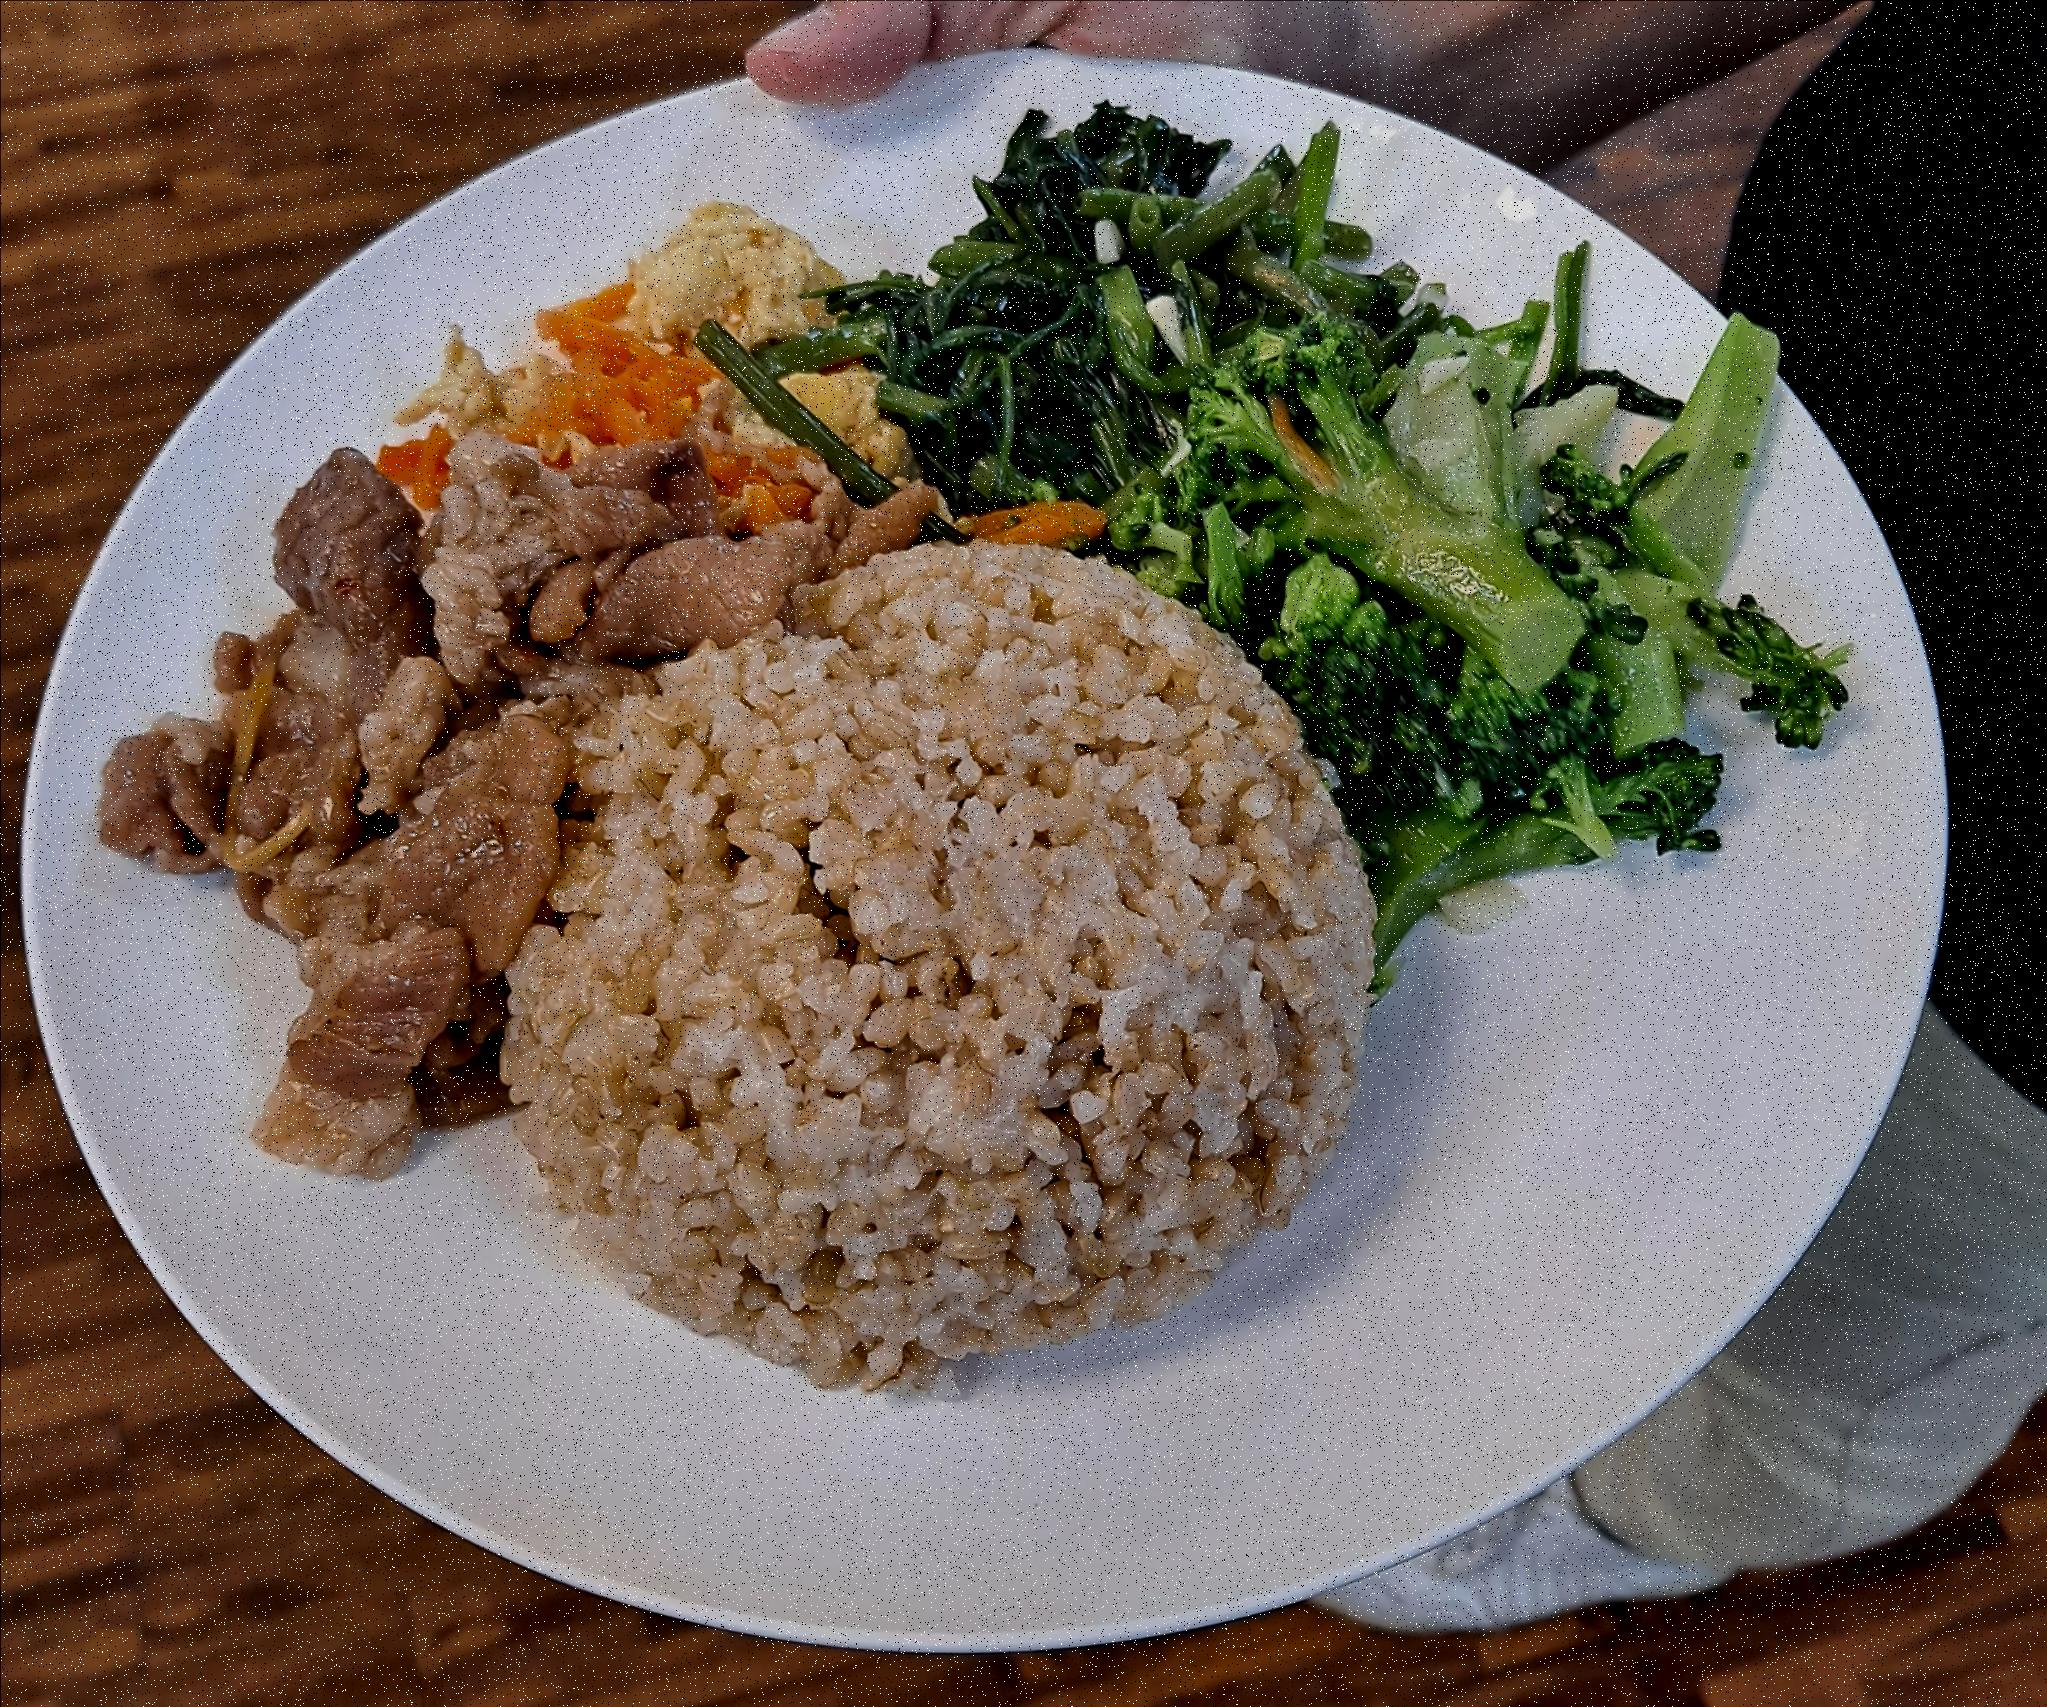big fried chicken leg: (9, 37, 1965, 1649)
box: (508, 530, 1387, 1392)
braised fish fillet: (1190, 306, 1857, 944), (383, 204, 903, 519), (876, 94, 1224, 547)
braised pork: (94, 439, 831, 1188)
